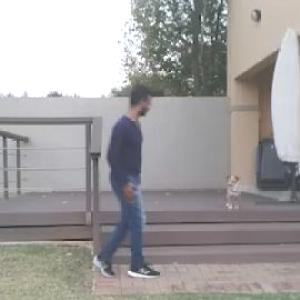follow: (104, 87, 157, 252)
